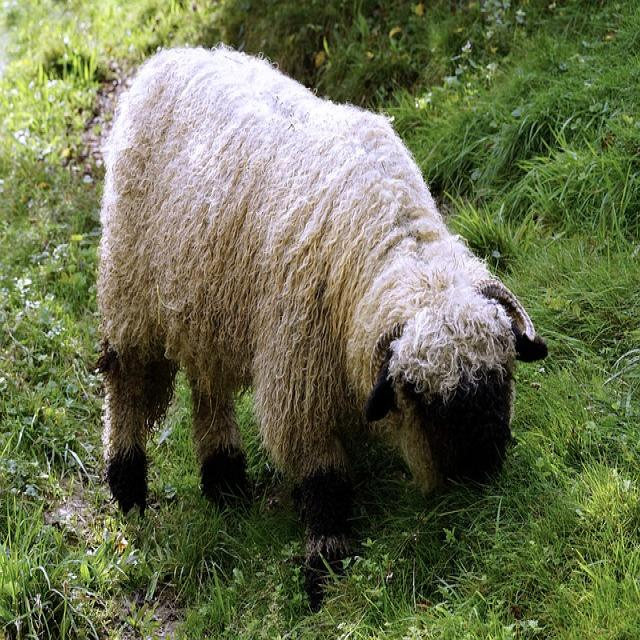goat: (95, 45, 548, 593)
